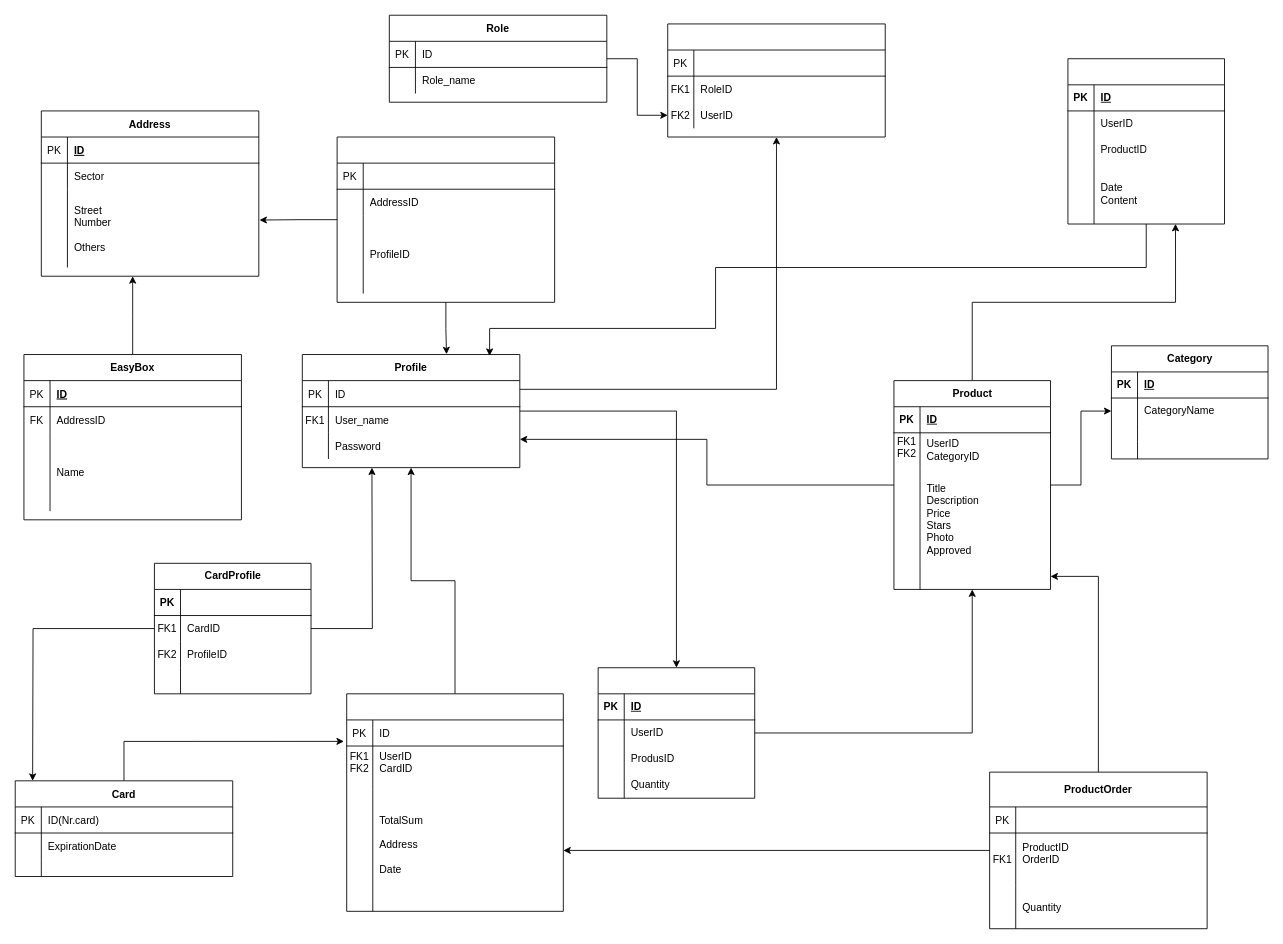
The diagram is 1283 pixels wide and 944 high, and some of its shapes have lost their labels. The shapes that lost their labels are listed below. From the top down, each one's box as (x1, y1, x2, y2) in pixels, then its label:
(667, 23, 885, 137): UserRole
(1067, 58, 1225, 224): Review
(336, 136, 555, 302): UserAddress
(597, 667, 755, 798): Cart
(346, 693, 563, 911): Order
